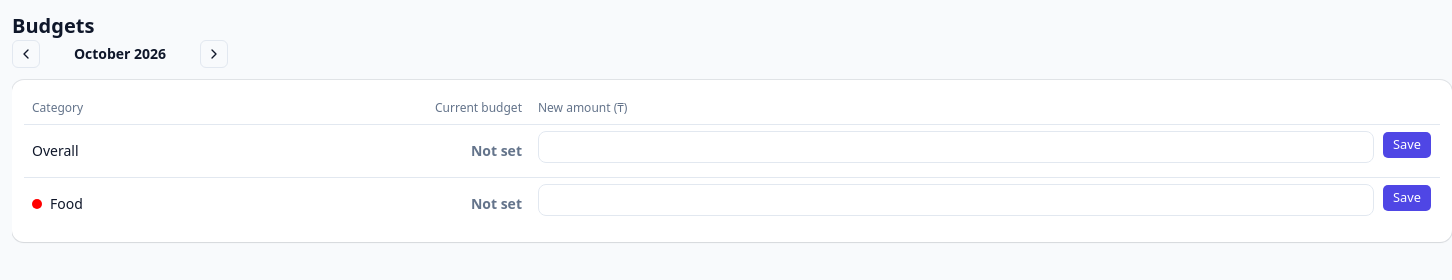
amount limit from GET /config › enforces the loaded limit in budget rows
Type "5001" into the field named "Food budget in tenge" in the row of "Food".
click(956, 200); type("5001")  # box [538,184,1374,216]
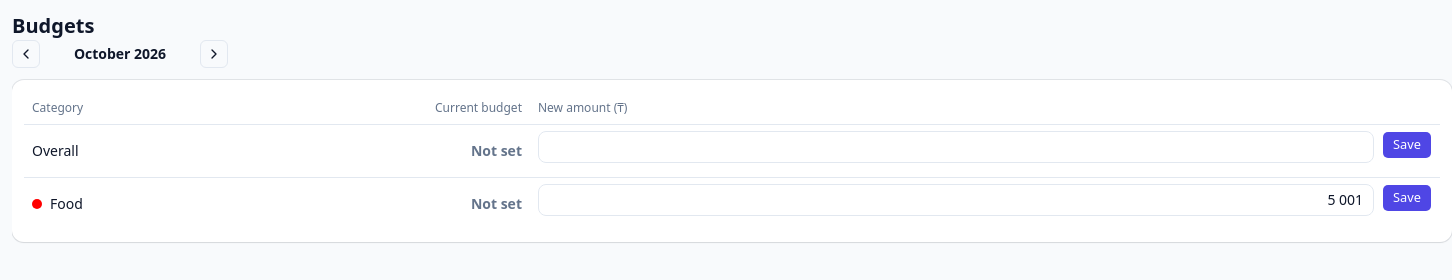
Click the button with aria-label "Save Food budget".
click(1407, 198)  # box [1382,184,1432,212]
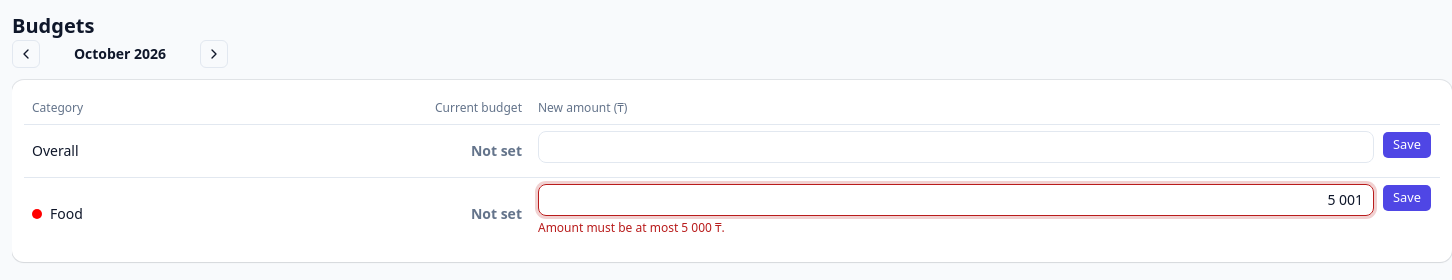
Replace the text in the field named "Food budget in tenge" in the row of "Food" with "5000" at (956, 200), box [538,184,1374,216]
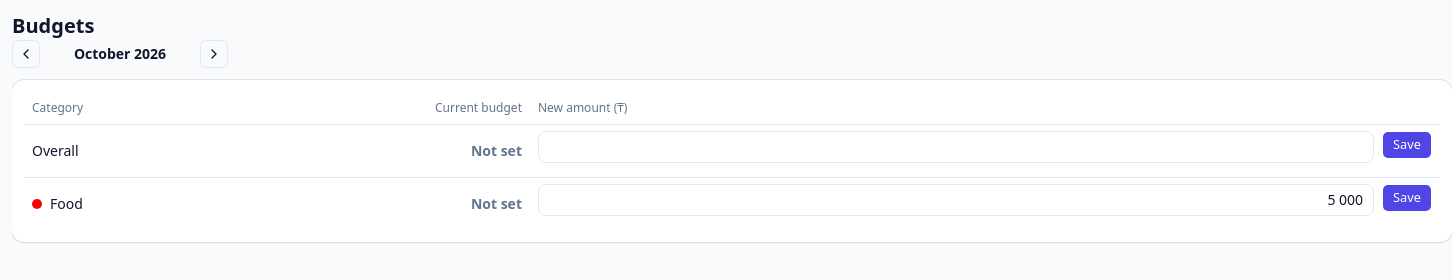
Click the button with aria-label "Save Food budget".
click(1407, 198)  # box [1382,184,1432,212]
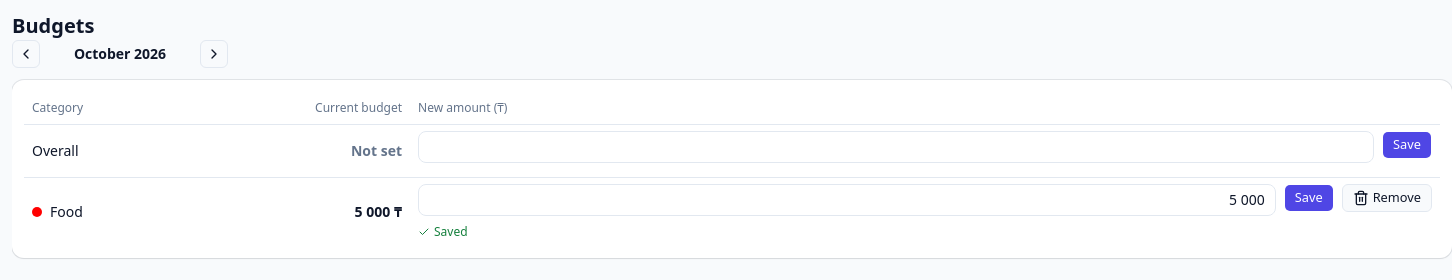
Now the text "Saved" is shown, box [418,222,468,240]
